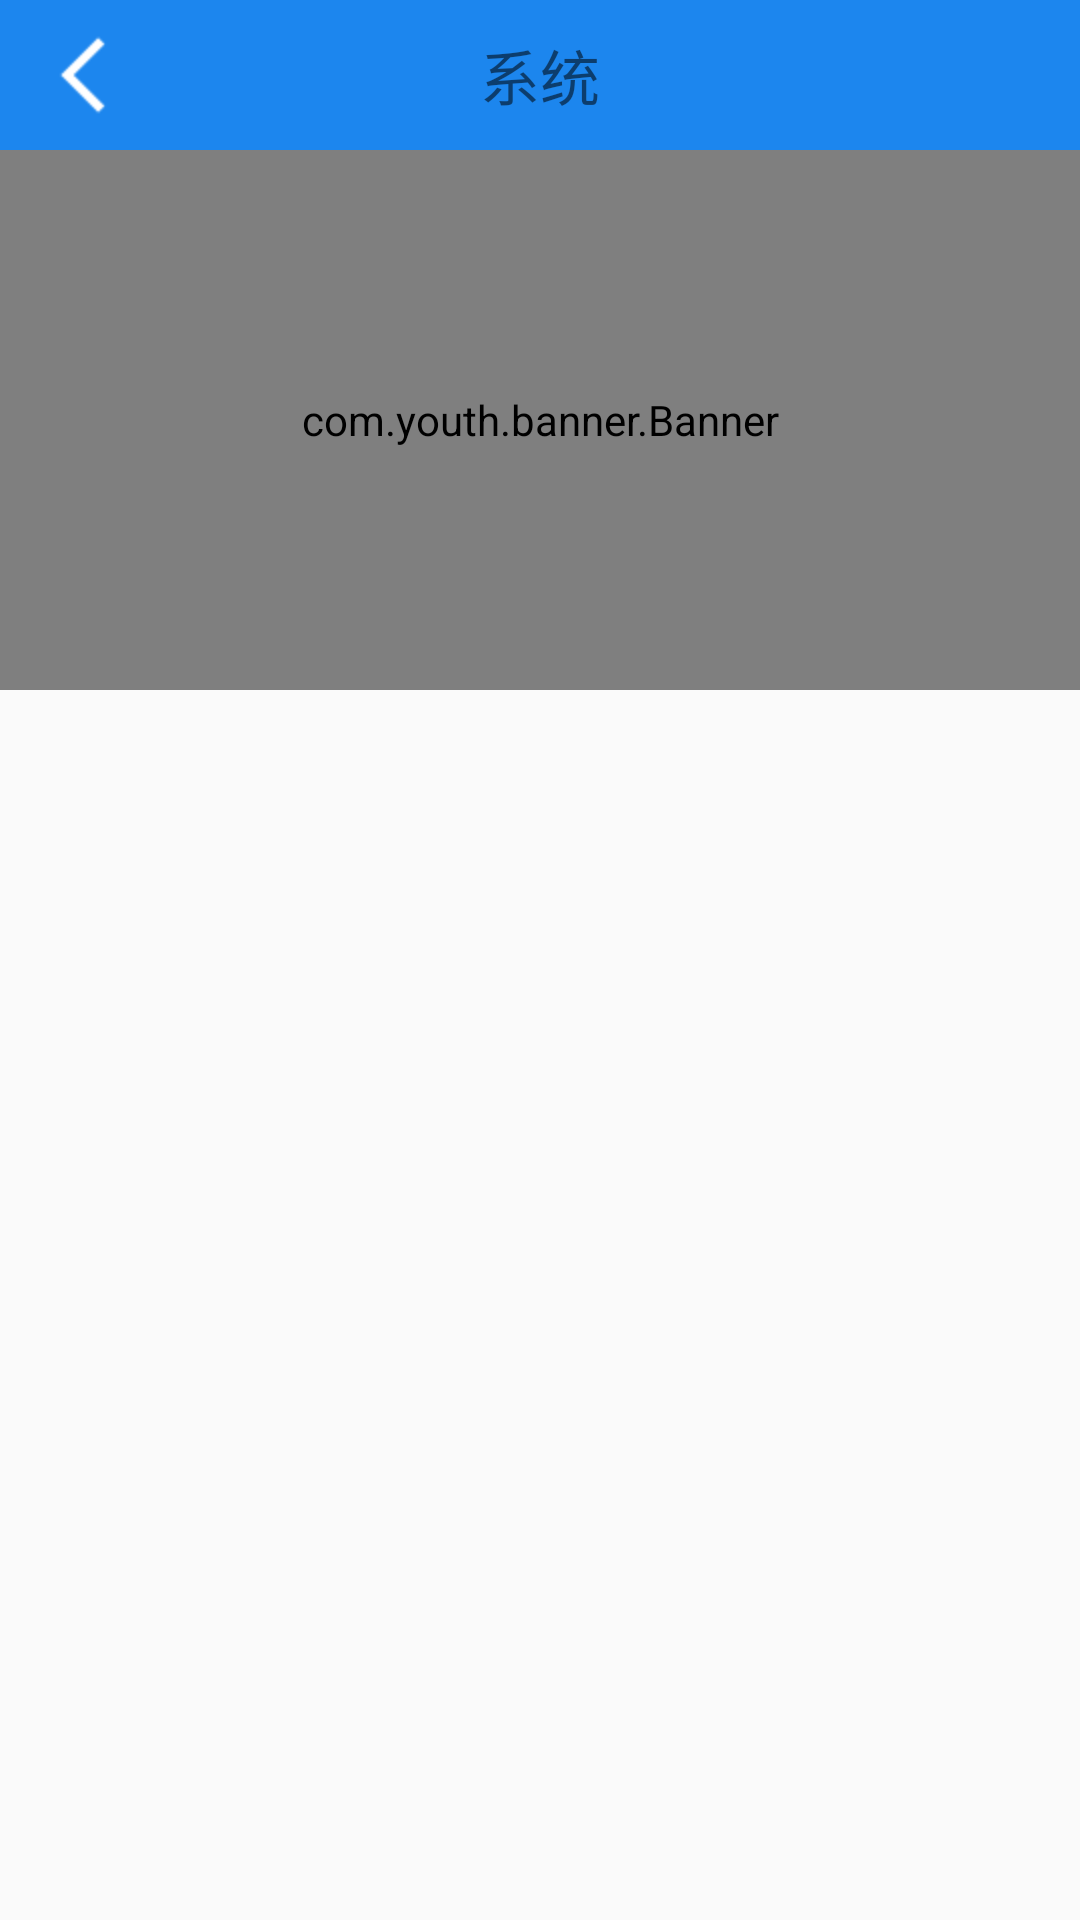

Screen size 1080x1920. Icon name, then its center in pixels as (x,y):
fanhui: (82,75)
